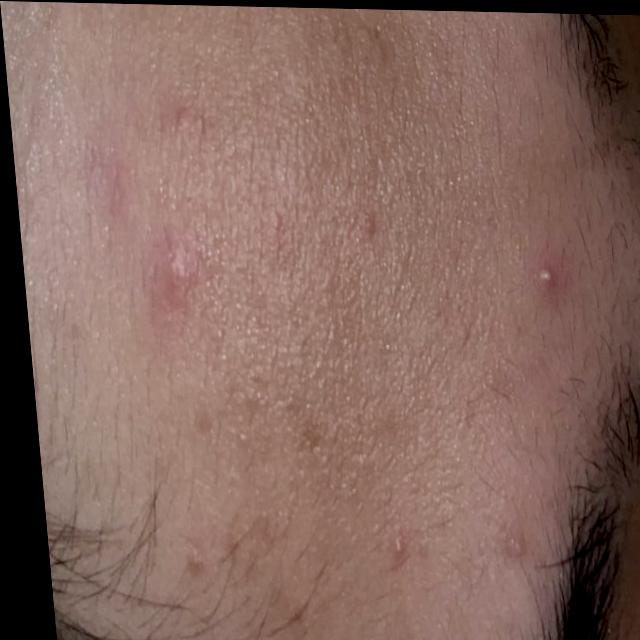papule: (49, 26, 242, 386)
pustule: (365, 519, 407, 580), (522, 234, 563, 288)
